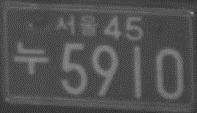0: (154, 46, 184, 101)
1: (125, 44, 151, 99)
4: (102, 14, 122, 41)
5: (61, 42, 88, 96), (125, 15, 144, 42)
9: (91, 44, 120, 98)
누: (13, 40, 48, 76)
서울_O: (55, 13, 97, 37)
